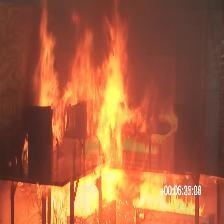fire: (3, 2, 193, 224)
